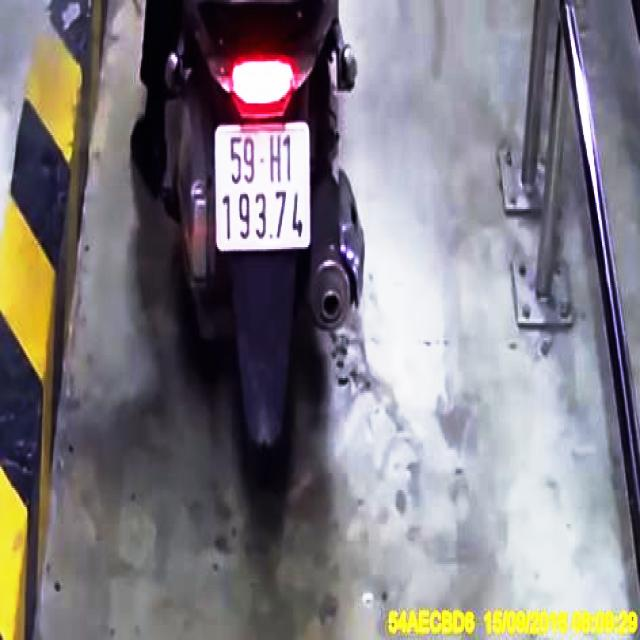license_plate: (216, 128, 310, 248)
